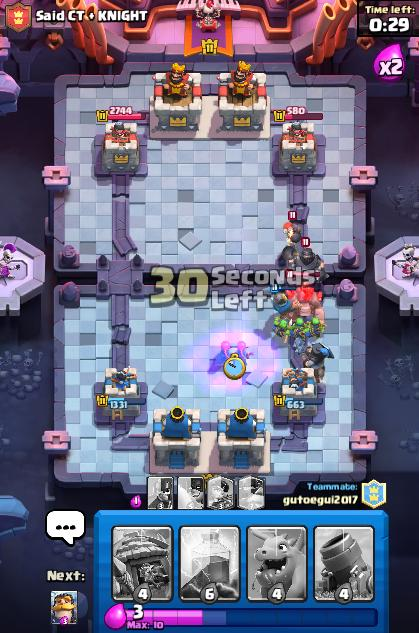EBomber: (284, 221, 300, 241)
EGolem: (291, 287, 323, 318)
EKingTower: (217, 61, 269, 130), (153, 63, 201, 130)
EMegaKnight: (287, 243, 323, 270)
EnemyPrincessTower: (102, 120, 139, 174), (279, 118, 314, 172)
ODarkPrince: (305, 342, 328, 382)
OEVArcher: (215, 341, 229, 365), (235, 340, 246, 364)
OKnight: (274, 292, 291, 314)
OSpearGoblin: (273, 316, 294, 342), (293, 317, 309, 340), (309, 317, 324, 337)
OwnKingTower: (218, 407, 269, 471), (150, 406, 198, 472)
OwnPrincessTower: (96, 367, 145, 420), (278, 369, 317, 420)
